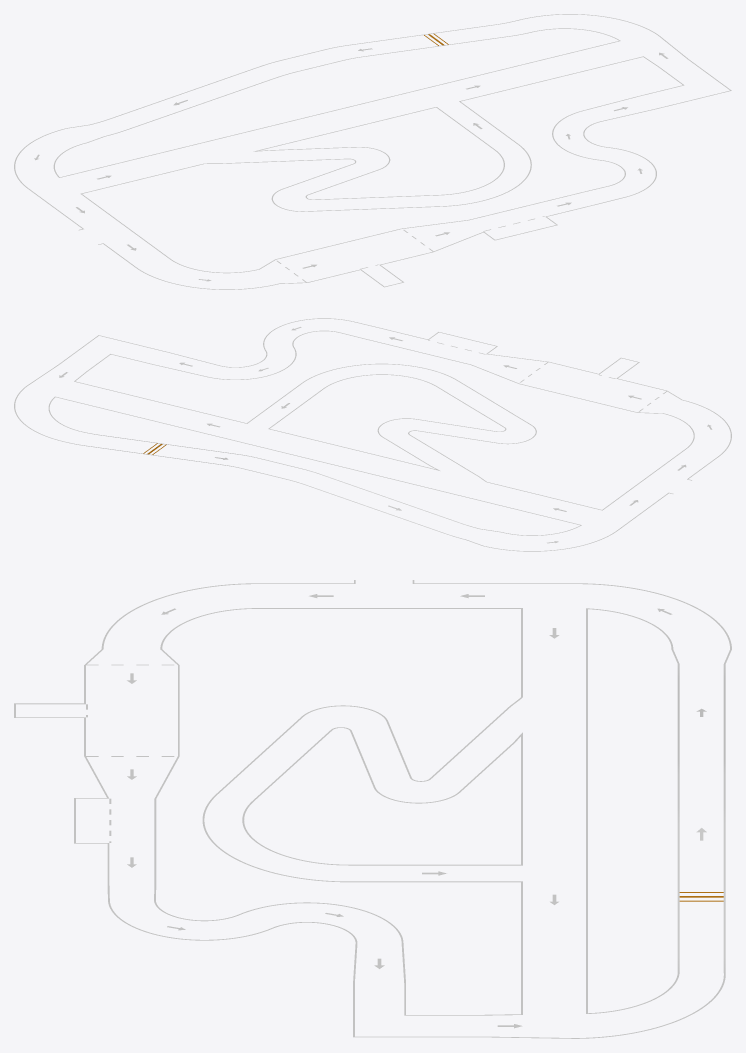
Rendered from markings.dae.
3 renders of one model, top to bottom at view 1: azimuth 30°, elevation 25°; view 2: azimuth 150°, elevation 25°; view 3: azimuth 270°, elevation 25°, orthographic. The views are drawn at different scales.
Visible parts, largest first — view 1: markings_0_L1, markings_1_L1; view 2: markings_0_L1, markings_1_L1; view 3: markings_0_L1, markings_1_L1.
Boxes of the visible parts, x1,y1,x2,y2 form: markings_0_L1: (14, 14, 731, 289); markings_1_L1: (34, 33, 668, 282); markings_0_L1: (14, 318, 731, 551); markings_1_L1: (59, 327, 712, 543); markings_0_L1: (14, 580, 731, 1038); markings_1_L1: (86, 594, 723, 1028).
Size of the model in its own units: 86.08 by 56.93 by 2.3.
